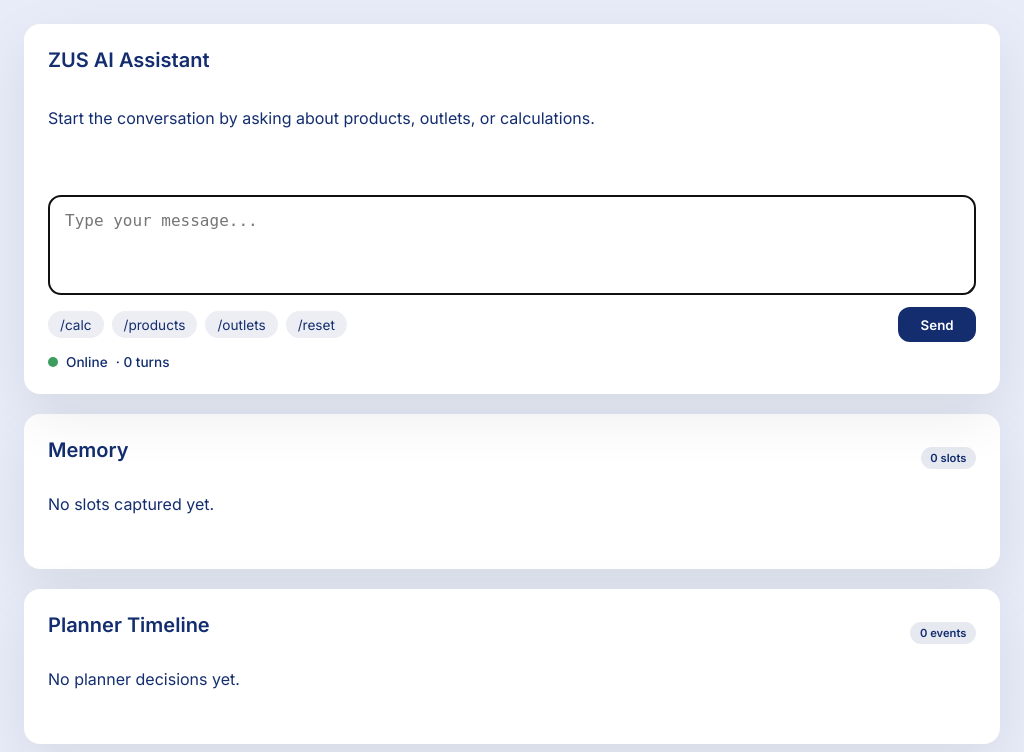
Test: Rate limit handling › shows a friendly retry message and disables send on 429
The image size is (1024, 752).
In the text box with placeholder "Type your message...": (512, 245) [48,195,976,295], type "hello"
Then press Enter
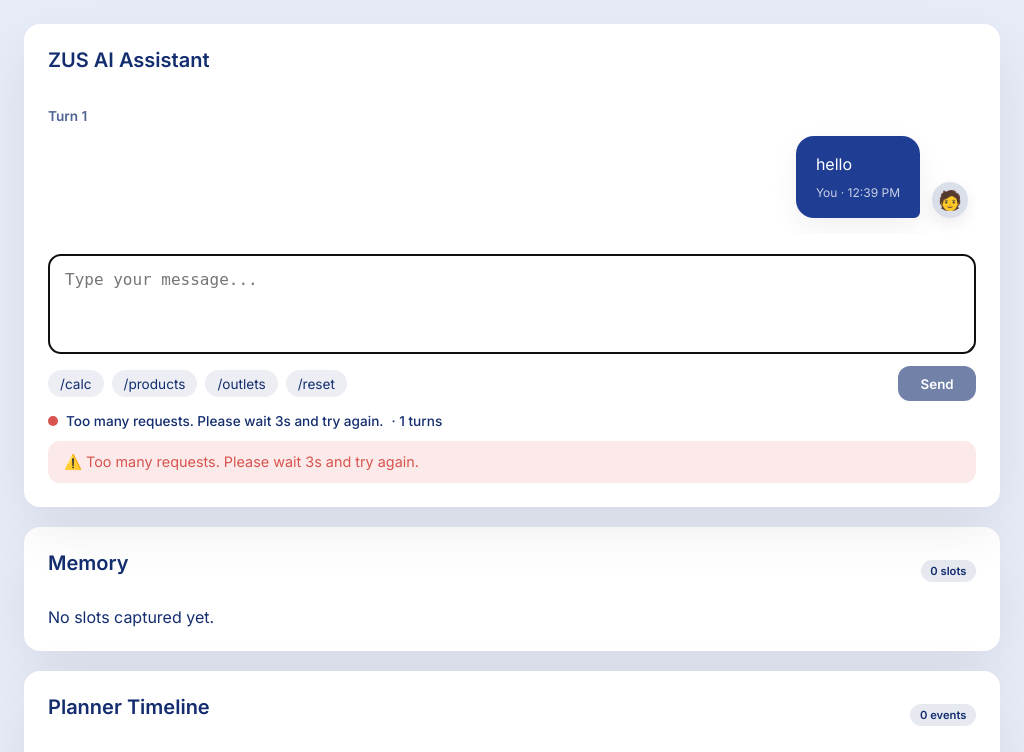
Now the text "Too many requests" is shown, box [66,413,383,429]
Now the submit button is disabled, box [898,366,976,401]
